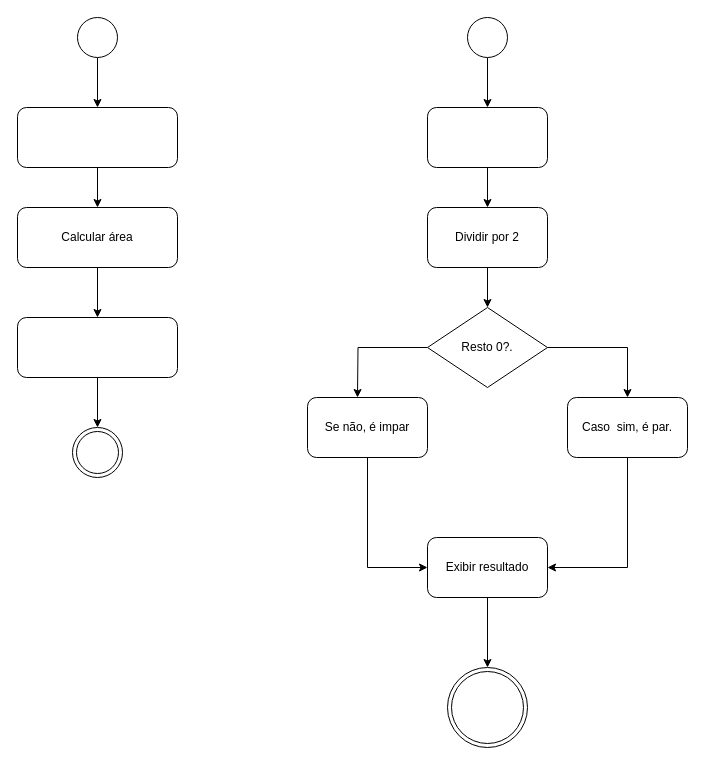
This 705x765 diagram has some shape labels left out. Each missing label, with the centre of its shape:
"Apresentar área" goes at point 97,347.
"informar base e altura" goes at point 97,137.
"Leia o numero" goes at point 487,137.
